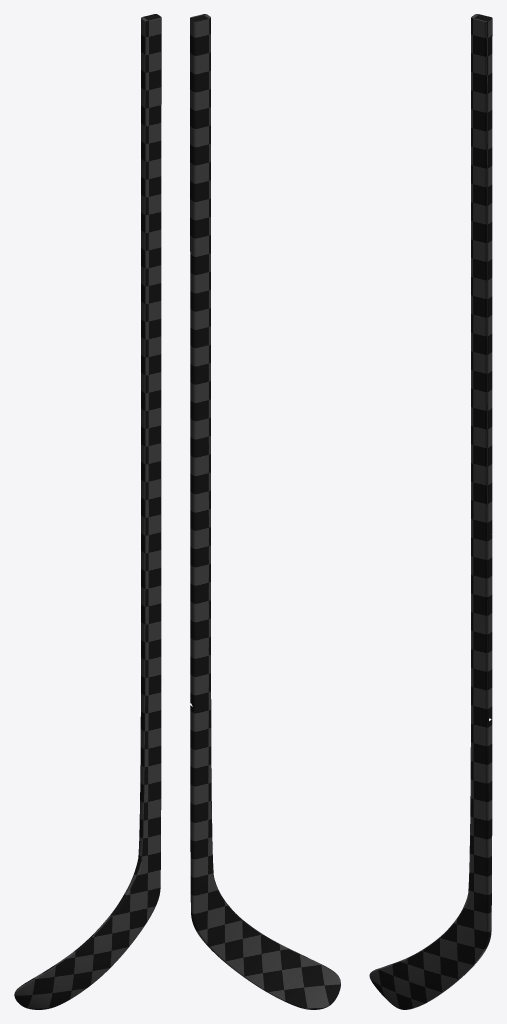
3 renders of one model, left to right at view 1: azimuth 30°, elevation 25°; view 2: azimuth 210°, elevation 25°; view 3: azimuth 330°, elevation 25°, orthographic. The views are drawn at different scales.
Visible parts, largest first — view 1: geometry_0; view 2: geometry_0; view 3: geometry_0.
Part boxes in pixels (<box>): geometry_0: <box>14,14,161,1009</box>; geometry_0: <box>190,14,340,1009</box>; geometry_0: <box>369,14,492,1009</box>.
Bounding box in the file's own units: 229 × 1650 × 65.17.
Materials: 1 (1 with a texture image).
